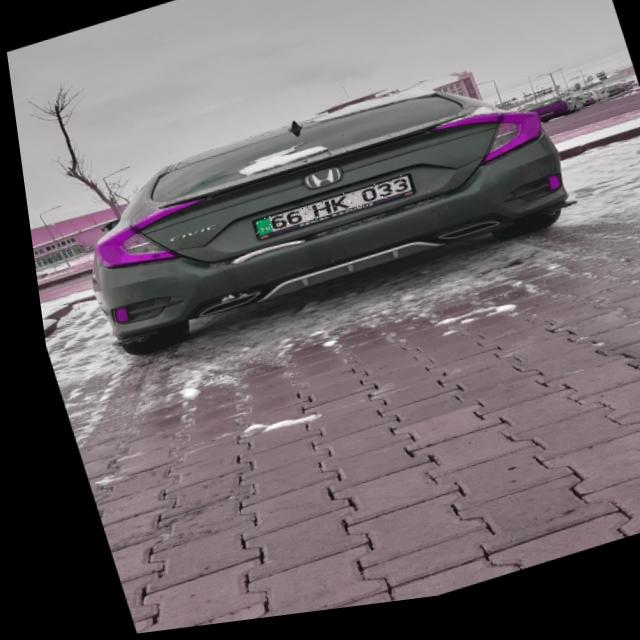license_plate: (242, 182, 411, 243)
